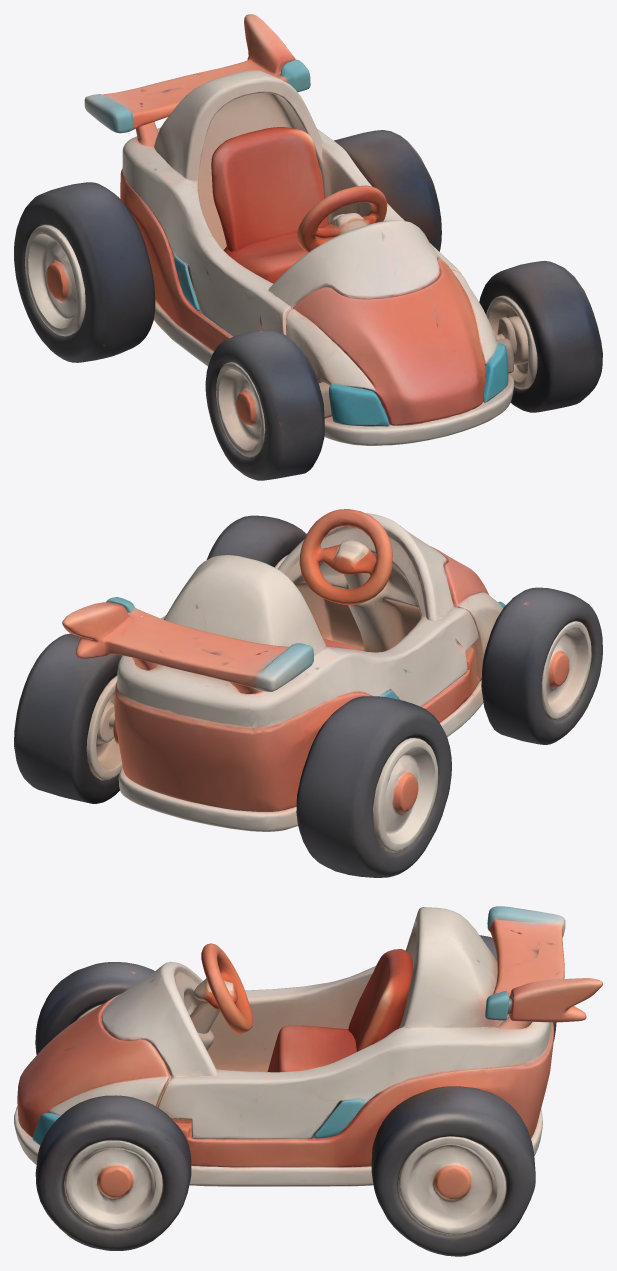
The model's file is comet-cartoon-runtime.glb.
3 views of the same model, one above another, from view 1: azimuth 30°, elevation 25°; view 2: azimuth 150°, elevation 25°; view 3: azimuth 270°, elevation 25° (orthographic). The views are drawn at different scales.
Parts seen in each view (by area): view 1: model; view 2: model; view 3: model.
Boxes of the visible parts, x1,y1,x2,y2 form: model: (14, 14, 602, 480); model: (14, 509, 602, 877); model: (14, 906, 602, 1256).
Bounding box in the file's own units: 1.35 × 0.9136 × 1.9.
Materials: 1 (1 with a texture image).
